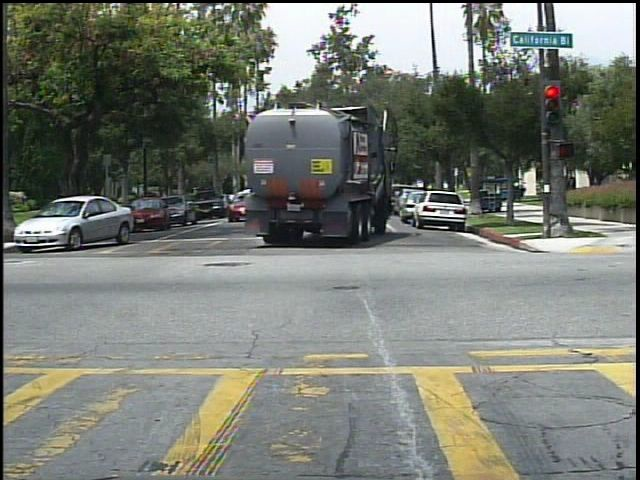person: (565, 170, 584, 201), (518, 179, 531, 199)
